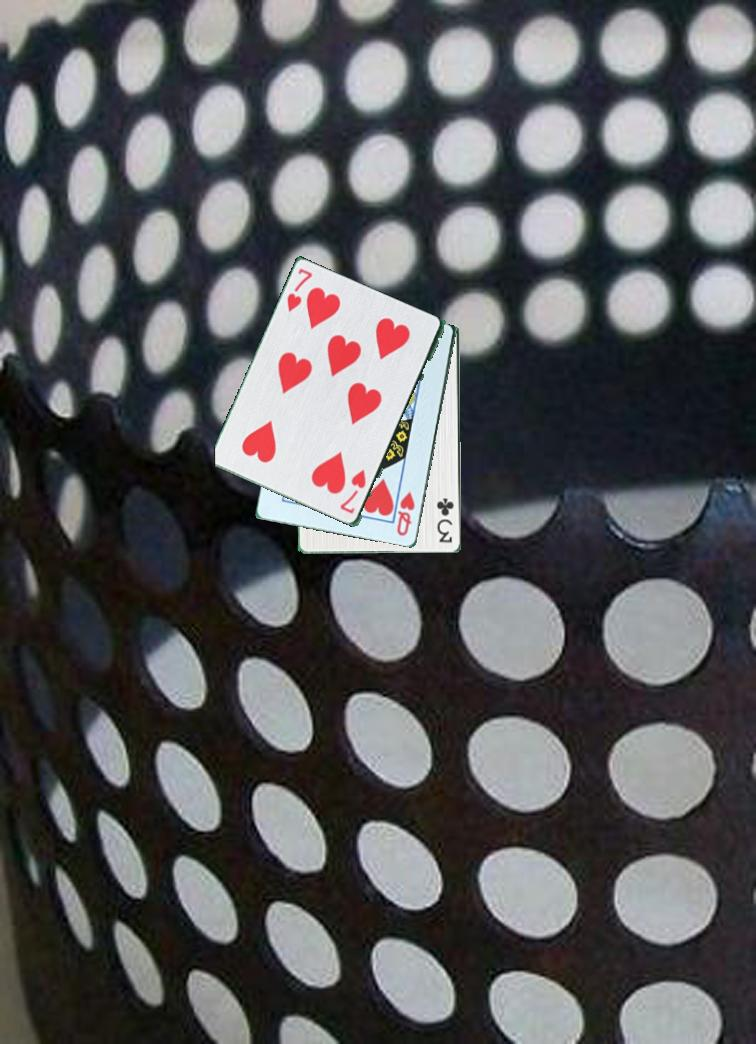3c: (435, 490, 457, 546)
7h: (283, 265, 319, 322), (337, 466, 369, 520)
qh: (393, 488, 418, 539)
